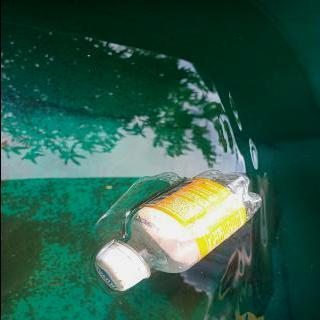bottle: (92, 171, 262, 291)
